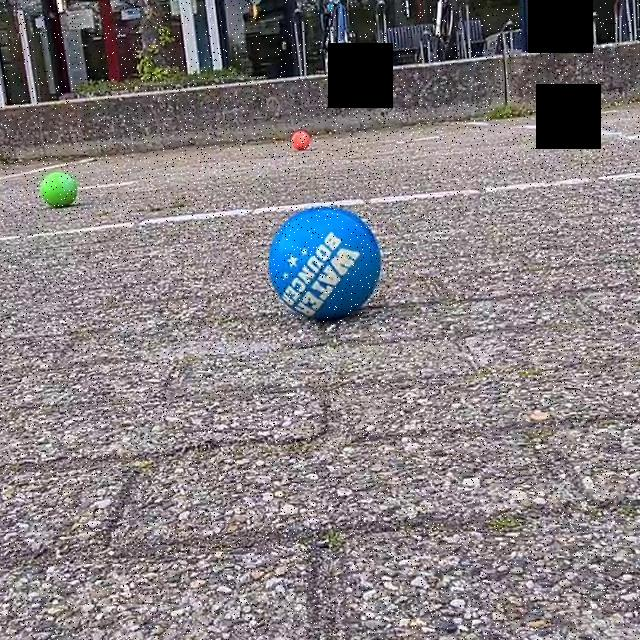ball: (38, 169, 80, 210), (289, 128, 311, 153)
